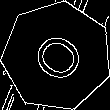O_SE: (23, 24, 90, 88)
